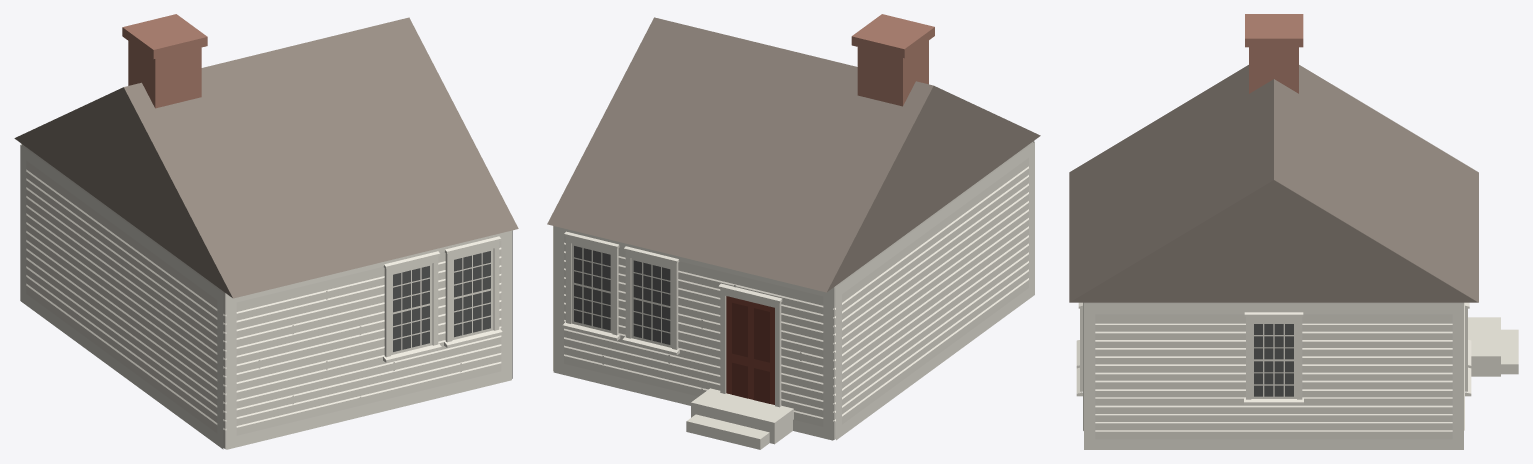
File: recon_1835_north_d3_038__inferred_1835.glb
The picture shows the model from 3 angles, left to right: view 1: azimuth 30°, elevation 25°; view 2: azimuth 150°, elevation 25°; view 3: azimuth 270°, elevation 25°; orthographic projection. The views are drawn at different scales.
Visible parts, largest first — view 1: recon_1835_north_d3_038__inferred_1835; view 2: recon_1835_north_d3_038__inferred_1835; view 3: recon_1835_north_d3_038__inferred_1835.
Part boxes in pixels (x1,y1,x2,y2): recon_1835_north_d3_038__inferred_1835: (14, 14, 518, 449); recon_1835_north_d3_038__inferred_1835: (547, 14, 1040, 449); recon_1835_north_d3_038__inferred_1835: (1069, 14, 1518, 449).
Bounding box in the file's own units: 5.33 × 5.77 × 7.55.
